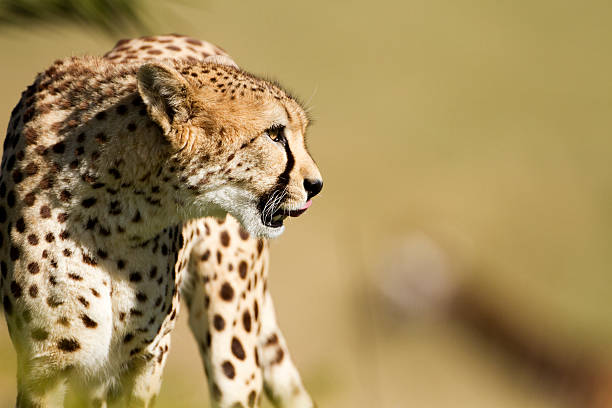cheetah: (132, 56, 337, 241)
